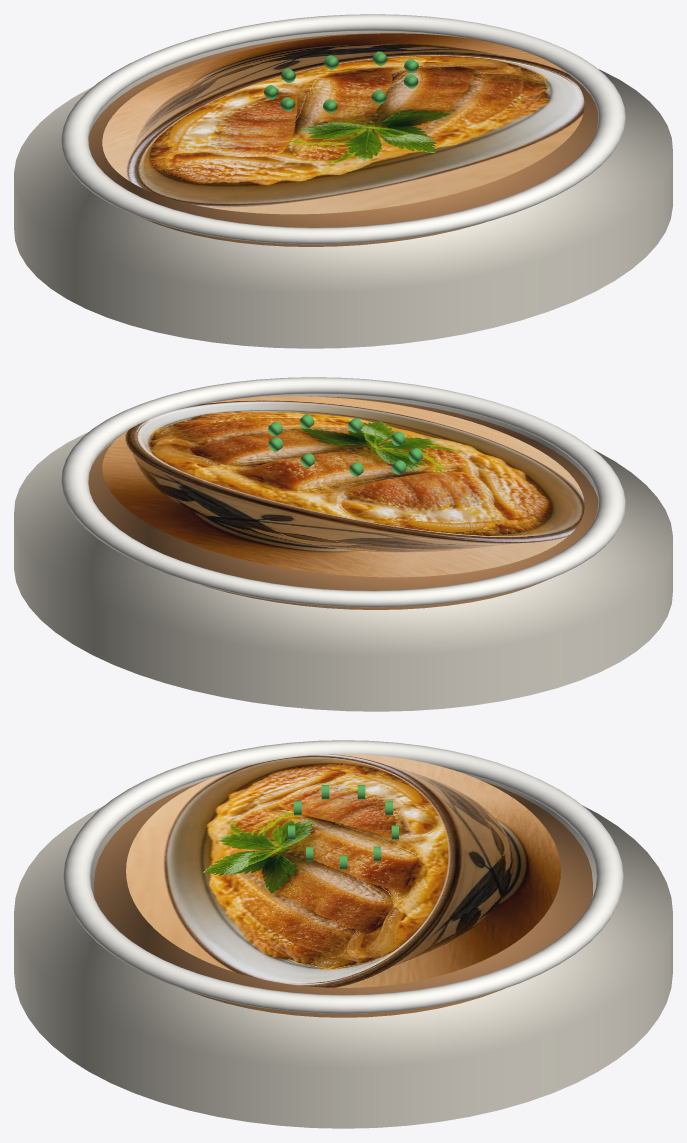
The model's file is katsudon.glb.
3 views of the same model, one above another, from view 1: azimuth 30°, elevation 25°; view 2: azimuth 150°, elevation 25°; view 3: azimuth 270°, elevation 25° (orthographic). The views are drawn at different scales.
Size of the model in its own units: 2.24 by 0.5128 by 2.
5 materials, 1 textured.
